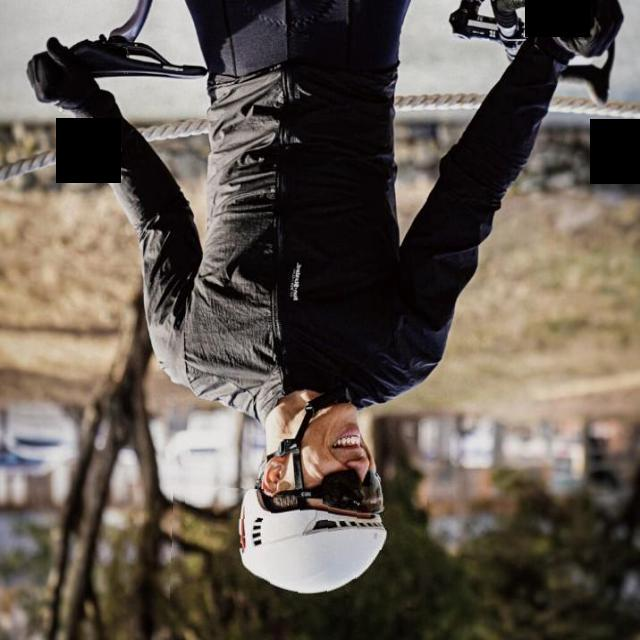helmet: (171, 489, 427, 610)
